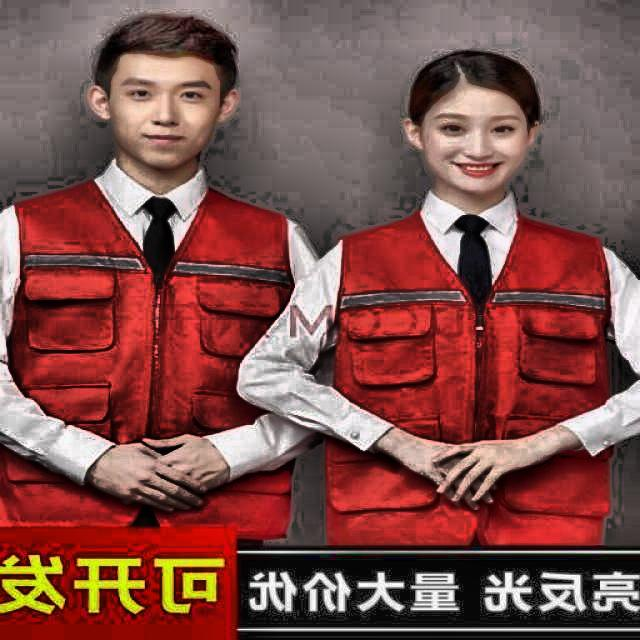safety_jacket: (0, 172, 304, 533), (334, 203, 618, 546)
